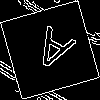A: (25, 25, 77, 82)
